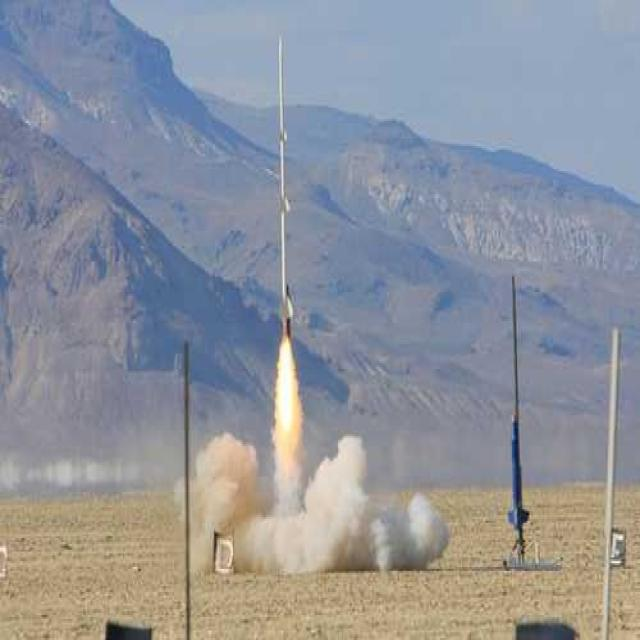missile: (273, 30, 297, 346)
